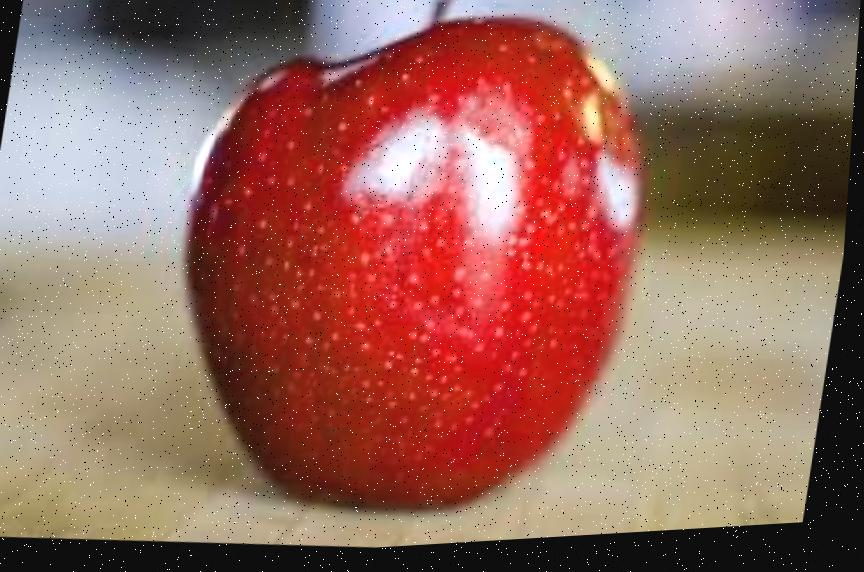HEALTHY: (139, 0, 682, 526)
